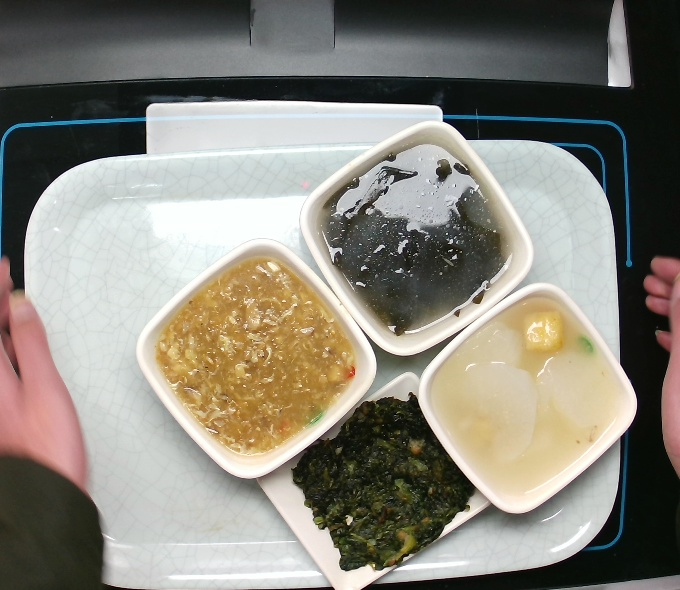wcq-HaiDaiPaiGuTang: (317, 139, 517, 341)
wcq-LuoBoYouPaoTang: (429, 298, 624, 498)
wcq-QinCaiBing: (291, 390, 480, 573)
wcq-SuanLaGeng: (150, 255, 356, 454)
